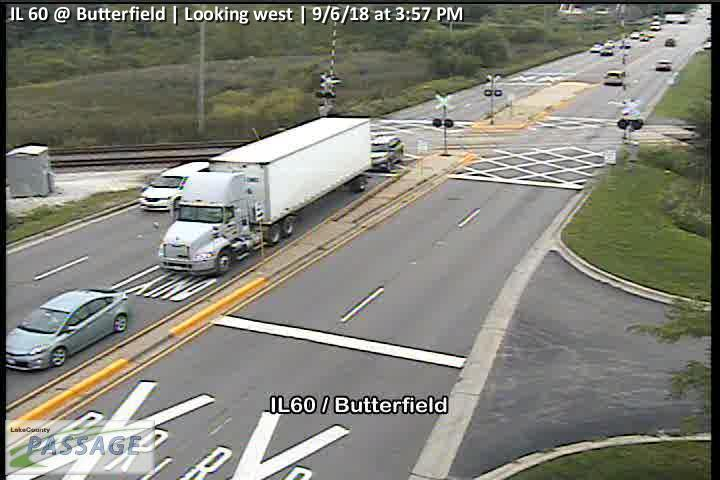SUV: (139, 160, 209, 213), (372, 135, 405, 172)
Sedan: (5, 287, 130, 374)
Truck: (158, 117, 372, 277)
